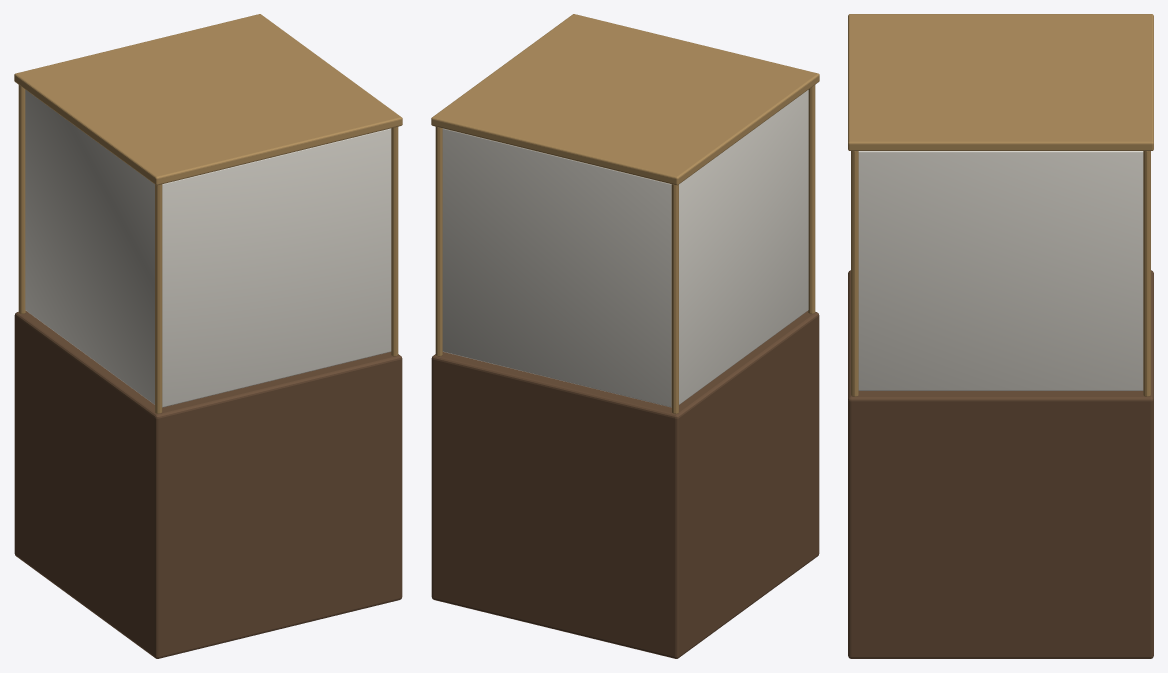
The model's file is vitrine.glb.
The picture shows the model from 3 angles, left to right: view 1: azimuth 30°, elevation 25°; view 2: azimuth 150°, elevation 25°; view 3: azimuth 270°, elevation 25°; orthographic projection. The views are drawn at different scales.
Visible parts, largest first — view 1: vit_plinth, vit_glass, vit_cap, vit_post_-1_-1, vit_post_1_-1, vit_post_-1_1; view 2: vit_plinth, vit_glass, vit_cap, vit_post_-1_1, vit_post_1_1, vit_post_-1_-1; view 3: vit_plinth, vit_glass, vit_cap, vit_post_1_-1, vit_post_1_1.
Part boxes in pixels (left/top/right/bottom): vit_plinth: left=14, top=311, right=402, bottom=658; vit_glass: left=25, top=90, right=391, bottom=407; vit_cap: left=14, top=14, right=402, bottom=185; vit_post_-1_-1: left=155, top=184, right=162, bottom=413; vit_post_1_-1: left=391, top=127, right=398, bottom=356; vit_post_-1_1: left=18, top=85, right=25, bottom=313; vit_plinth: left=431, top=311, right=819, bottom=658; vit_glass: left=442, top=90, right=808, bottom=407; vit_cap: left=431, top=14, right=819, bottom=185; vit_post_-1_1: left=671, top=184, right=678, bottom=413; vit_post_1_1: left=435, top=127, right=442, bottom=356; vit_post_-1_-1: left=808, top=85, right=815, bottom=313; vit_plinth: left=848, top=270, right=1153, bottom=658; vit_glass: left=858, top=151, right=1143, bottom=390; vit_cap: left=848, top=14, right=1153, bottom=150; vit_post_1_-1: left=851, top=151, right=858, bottom=396; vit_post_1_1: left=1143, top=151, right=1150, bottom=396.
Size of the model in its own units: 0.9 by 1.68 by 0.9.
